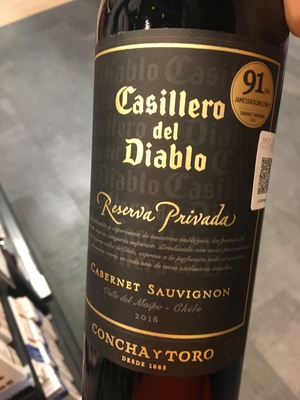casillero del diablo reserva privada cabernet sauvignon: (75, 2, 285, 400)
